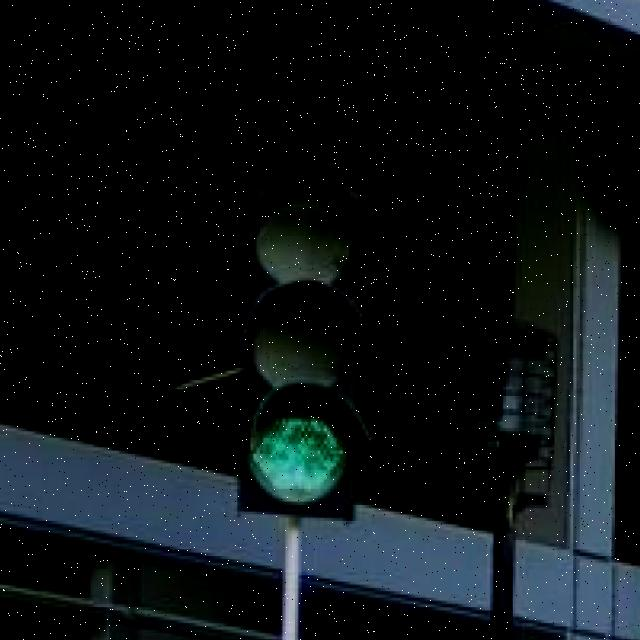Lampu Hijau: (218, 164, 391, 526)
